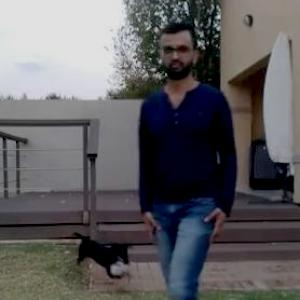follow: (118, 38, 220, 299)
